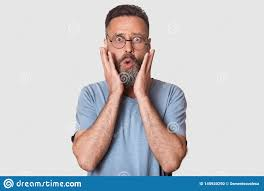white_male: (104, 11, 162, 96)
